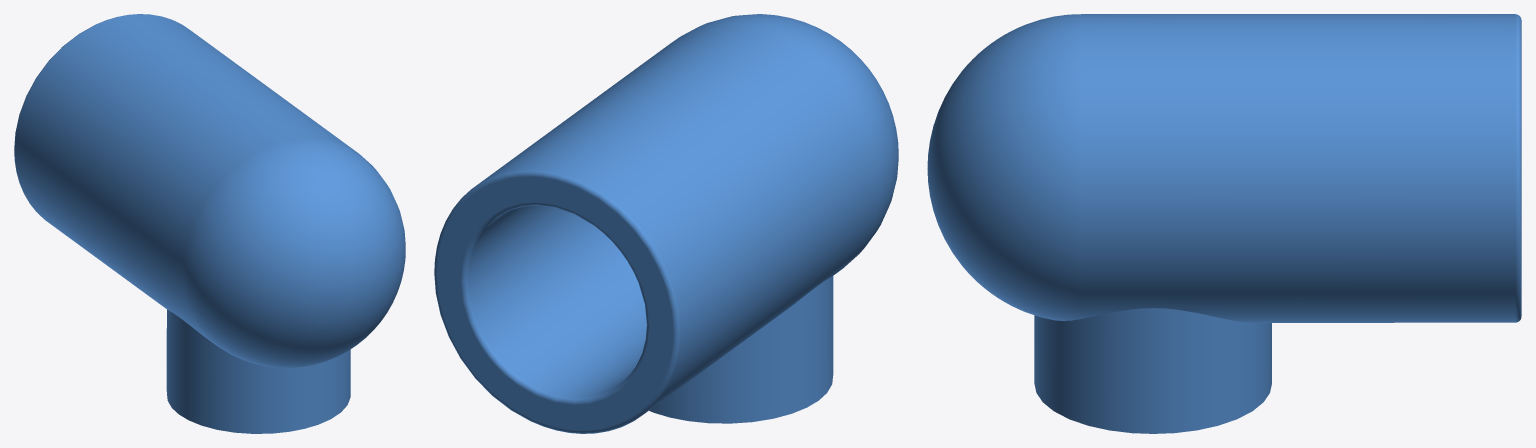
The model's file is Cannon.fbx.
3 views of the same model, side by side, from view 1: azimuth 30°, elevation 25°; view 2: azimuth 150°, elevation 25°; view 3: azimuth 270°, elevation 25° (orthographic). The views are drawn at different scales.
Parts seen in each view (by area): view 1: Body1; view 2: Body1; view 3: Body1.
Boxes of the visible parts, left/top/right/bottom form: Body1: left=14, top=14, right=405, bottom=433; Body1: left=434, top=14, right=898, bottom=433; Body1: left=927, top=14, right=1521, bottom=433.
Size of the model in its own units: 13 by 16.5 by 25.
